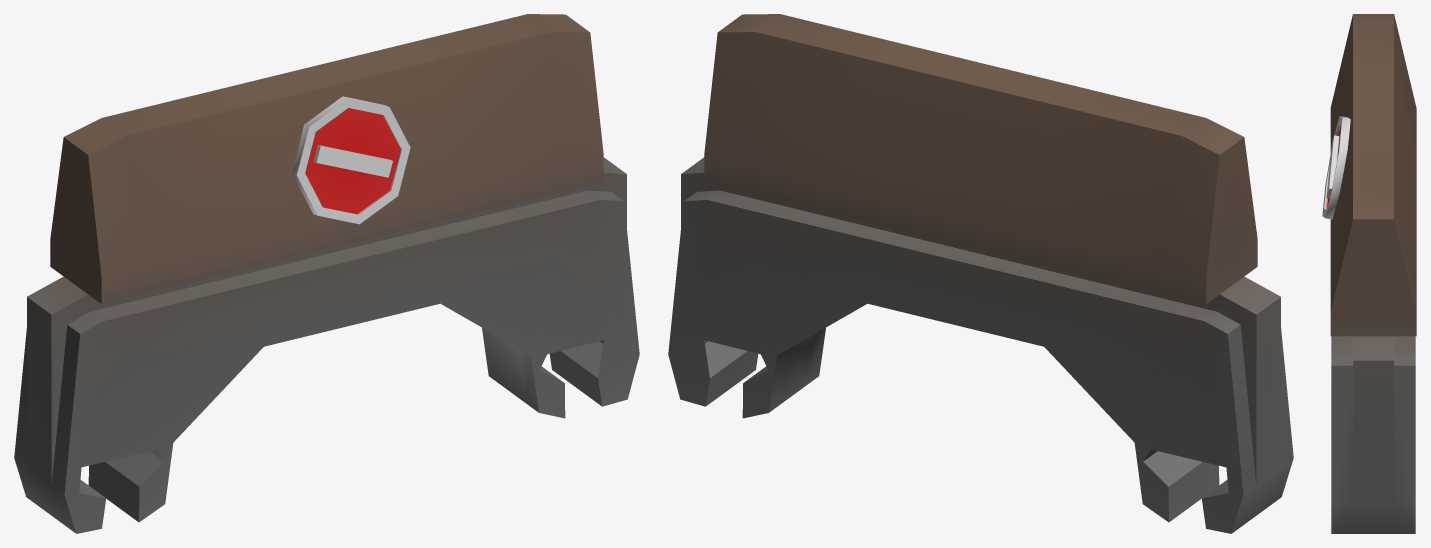
The model's file is stop_rail.glb.
3 renders of one model, left to right at view 1: azimuth 30°, elevation 25°; view 2: azimuth 150°, elevation 25°; view 3: azimuth 270°, elevation 25°, orthographic. The views are drawn at different scales.
Parts seen in each view (by area): view 1: Object_3; view 2: Object_3; view 3: Object_3.
Boxes of the visible parts, x1=… form: Object_3: x1=14, y1=14, x2=639, y2=533; Object_3: x1=668, y1=14, x2=1293, y2=533; Object_3: x1=1322, y1=14, x2=1416, y2=533.
Size of the model in its own units: 0.8441 by 0.5285 by 0.1428.
